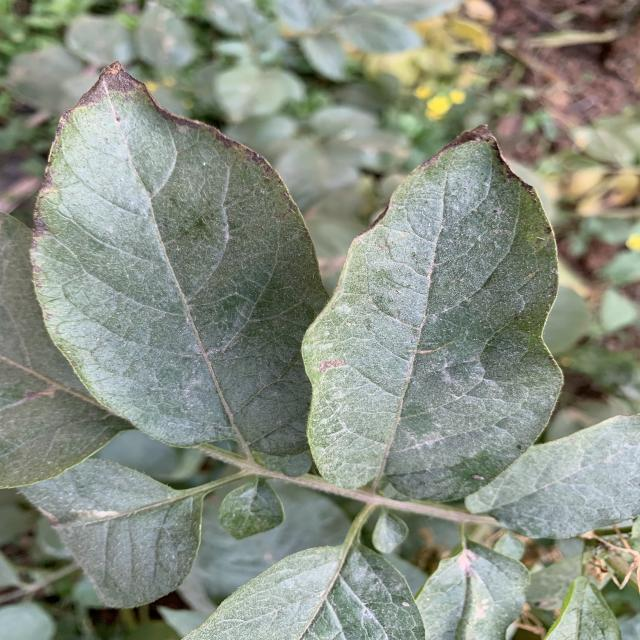lateblight: (78, 61, 142, 108), (45, 116, 68, 191), (442, 125, 497, 151), (425, 150, 445, 166)
